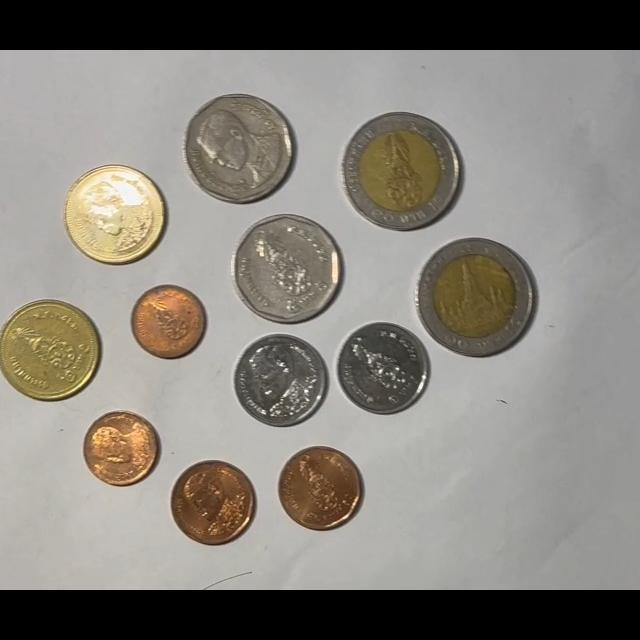1-baht: (233, 333, 328, 427), (336, 322, 430, 416)
10-baht: (341, 112, 461, 232), (417, 237, 536, 357)
2-baht: (63, 165, 165, 265), (0, 298, 99, 401)
25-satang: (83, 411, 160, 486), (131, 284, 205, 358)
5-baht: (183, 94, 295, 205), (232, 214, 342, 325)
50-satang: (170, 460, 256, 546), (277, 446, 362, 531)
